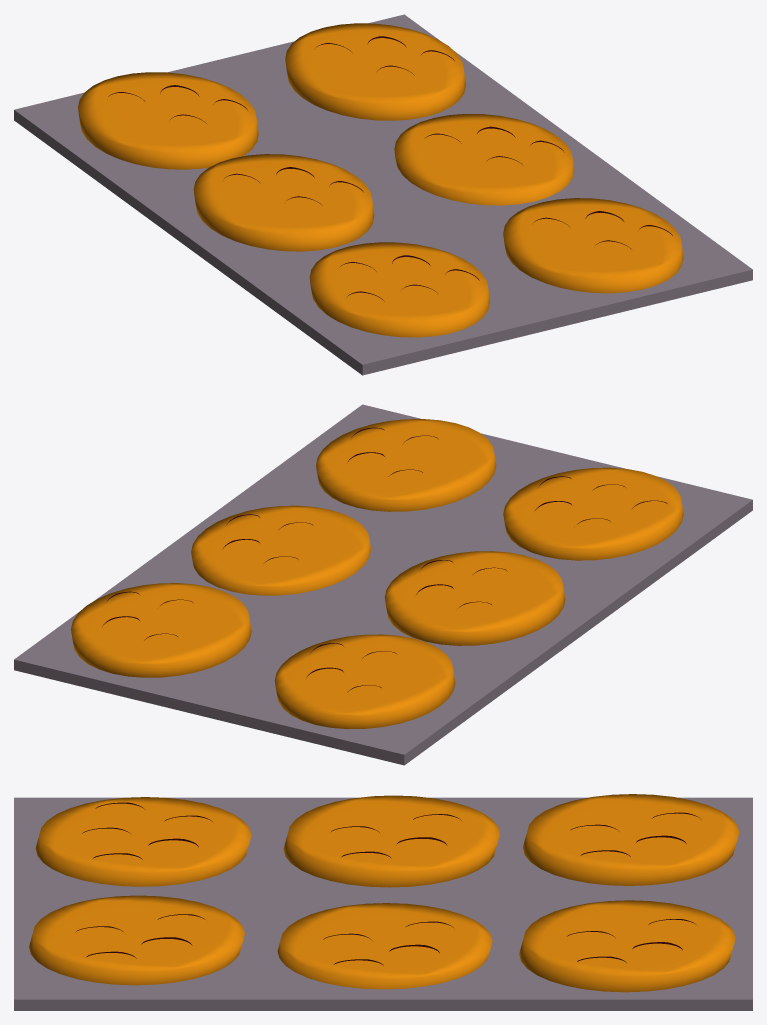
File: Cockies.fbx
3 renders of one model, top to bottom at view 1: azimuth 30°, elevation 25°; view 2: azimuth 150°, elevation 25°; view 3: azimuth 270°, elevation 25°, orthographic. The views are drawn at different scales.
Visible parts, largest first — view 1: Plane, Circle.026, Circle.011, Circle.021, Circle, Circle.006, Circle.016; view 2: Plane, Circle.026, Circle.021, Circle.011, Circle, Circle.006, Circle.016; view 3: Plane, Circle.021, Circle.011, Circle.026, Circle, Circle.006, Circle.016.
Part boxes in pixels (x1=…): Plane: x1=14, y1=14, x2=752, y2=375; Circle.026: x1=285, y1=23, x2=465, y2=120; Circle.011: x1=193, y1=154, x2=374, y2=251; Circle.021: x1=78, y1=72, x2=258, y2=169; Circle: x1=309, y1=242, x2=489, y2=337; Circle.006: x1=503, y1=198, x2=683, y2=293; Circle.016: x1=394, y1=114, x2=574, y2=205; Plane: x1=14, y1=404, x2=752, y2=765; Circle.026: x1=71, y1=583, x2=251, y2=677; Circle.021: x1=274, y1=634, x2=455, y2=729; Circle.011: x1=384, y1=551, x2=565, y2=645; Circle: x1=503, y1=467, x2=683, y2=560; Circle.006: x1=316, y1=419, x2=496, y2=511; Circle.016: x1=191, y1=505, x2=370, y2=595; Plane: x1=14, y1=797, x2=752, y2=1010; Circle.021: x1=522, y1=794, x2=739, y2=885; Circle.011: x1=283, y1=795, x2=499, y2=887; Circle.026: x1=519, y1=900, x2=735, y2=992; Circle: x1=35, y1=797, x2=251, y2=886; Circle.006: x1=29, y1=895, x2=244, y2=985; Circle.016: x1=277, y1=903, x2=492, y2=989.
Bounding box in the file's own units: 397 × 30.94 × 614.
